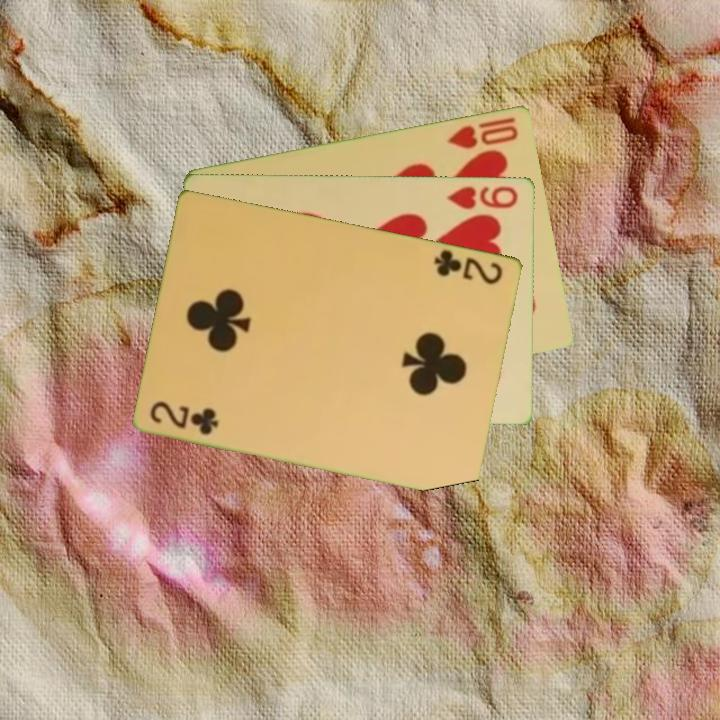10h: (444, 113, 522, 151)
2c: (431, 245, 507, 287), (147, 397, 222, 438)
9h: (444, 182, 521, 211)
